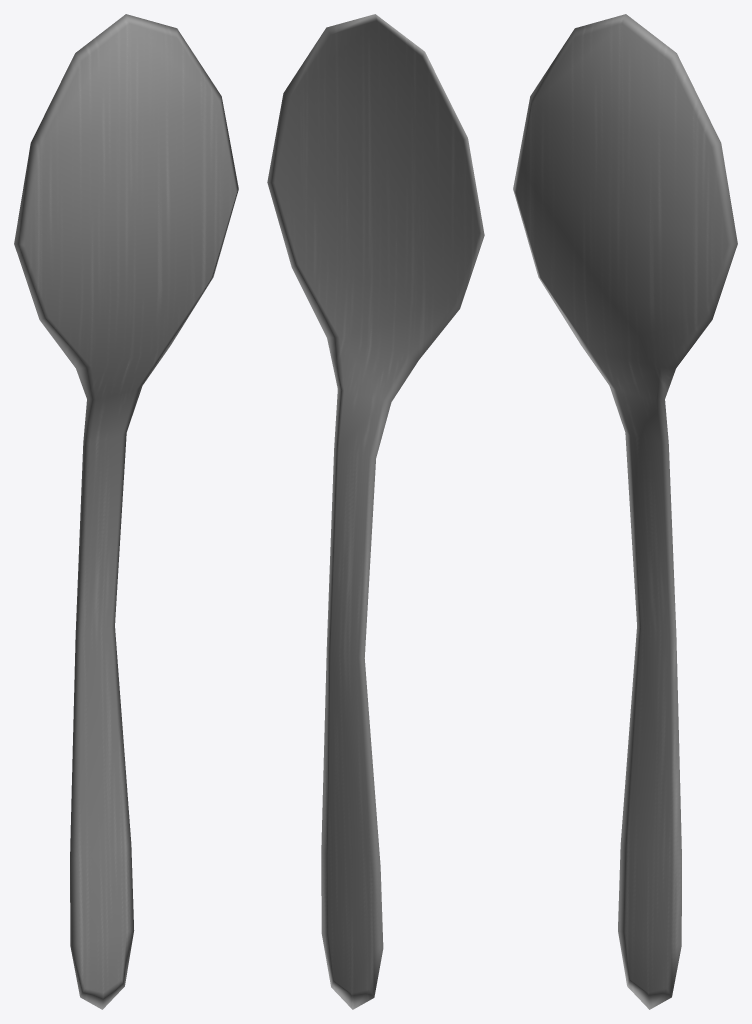
Rendered from spoon.glb.
3 views of the same model, side by side, from view 1: azimuth 30°, elevation 25°; view 2: azimuth 150°, elevation 25°; view 3: azimuth 330°, elevation 25° (orthographic). The views are drawn at different scales.
Visible parts, largest first — view 1: spoon; view 2: spoon; view 3: spoon.
Part boxes in pixels (left/top/right/bottom): spoon: left=14, top=14, right=238, bottom=1009; spoon: left=267, top=14, right=484, bottom=1009; spoon: left=513, top=14, right=737, bottom=1009.
Size of the model in its own units: 0.0455 by 0.1959 by 0.0127.
1 material, 1 textured.
